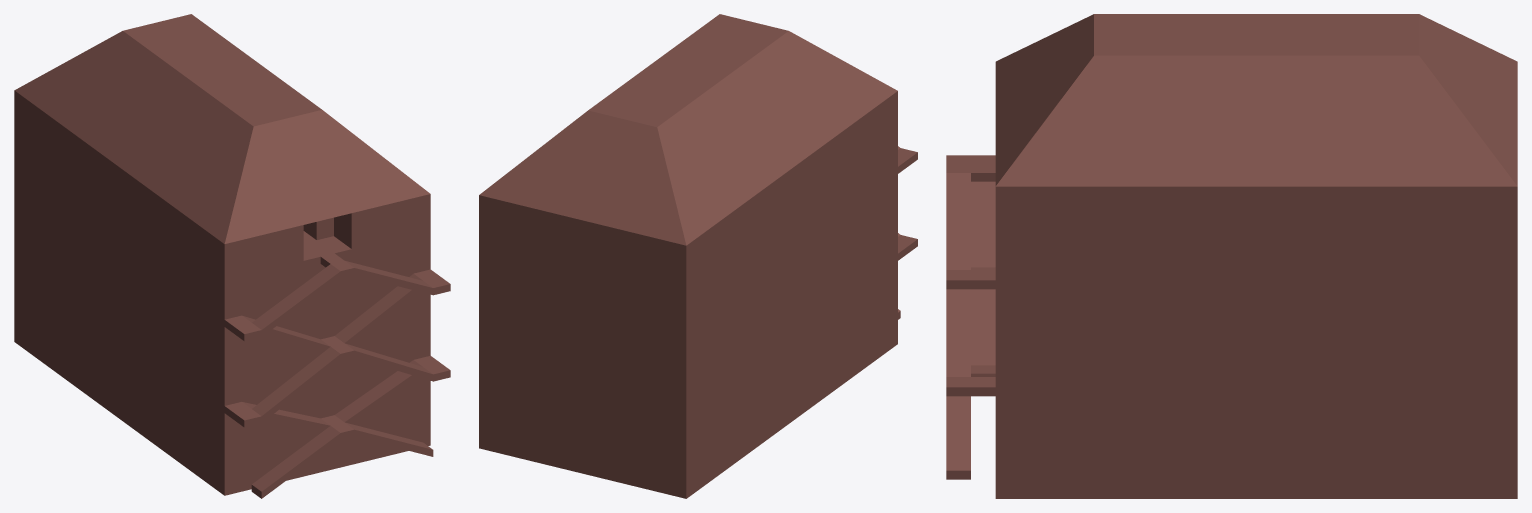
File: LavaBuildingFinal.fbx
3 views of the same model, side by side, from view 1: azimuth 30°, elevation 25°; view 2: azimuth 150°, elevation 25°; view 3: azimuth 270°, elevation 25° (orthographic). The views are drawn at different scales.
Visible parts, largest first — view 1: LavaBuildingFinal; view 2: LavaBuildingFinal; view 3: LavaBuildingFinal.
Part boxes in pixels (bbox=[...]): LavaBuildingFinal: bbox=[14, 14, 450, 498]; LavaBuildingFinal: bbox=[479, 14, 917, 498]; LavaBuildingFinal: bbox=[946, 14, 1517, 498].
Bounding box in the file's own units: 60 × 90 × 116.
